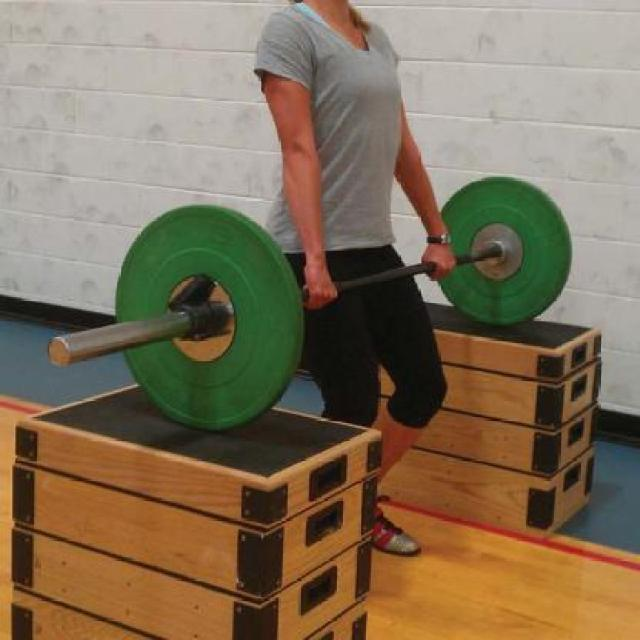barbell: (105, 199, 314, 433)
